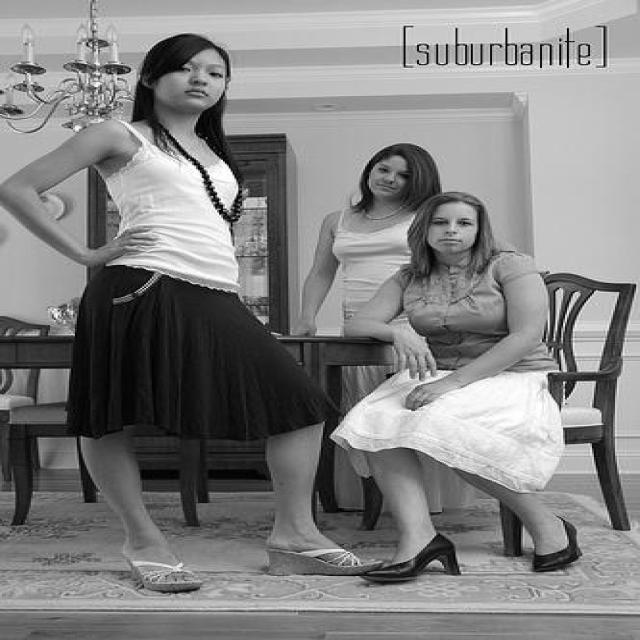No_Gloves: (82, 229, 154, 273), (389, 333, 448, 382), (406, 374, 472, 411), (282, 316, 330, 345)
